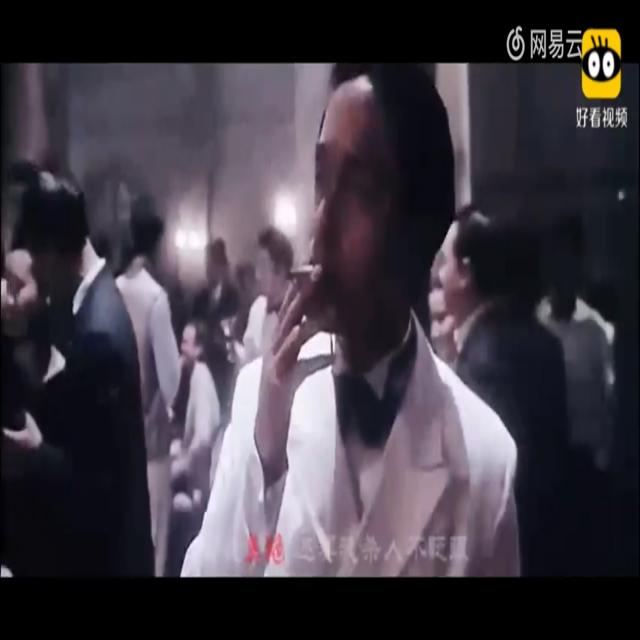smoke: (284, 253, 314, 285)
